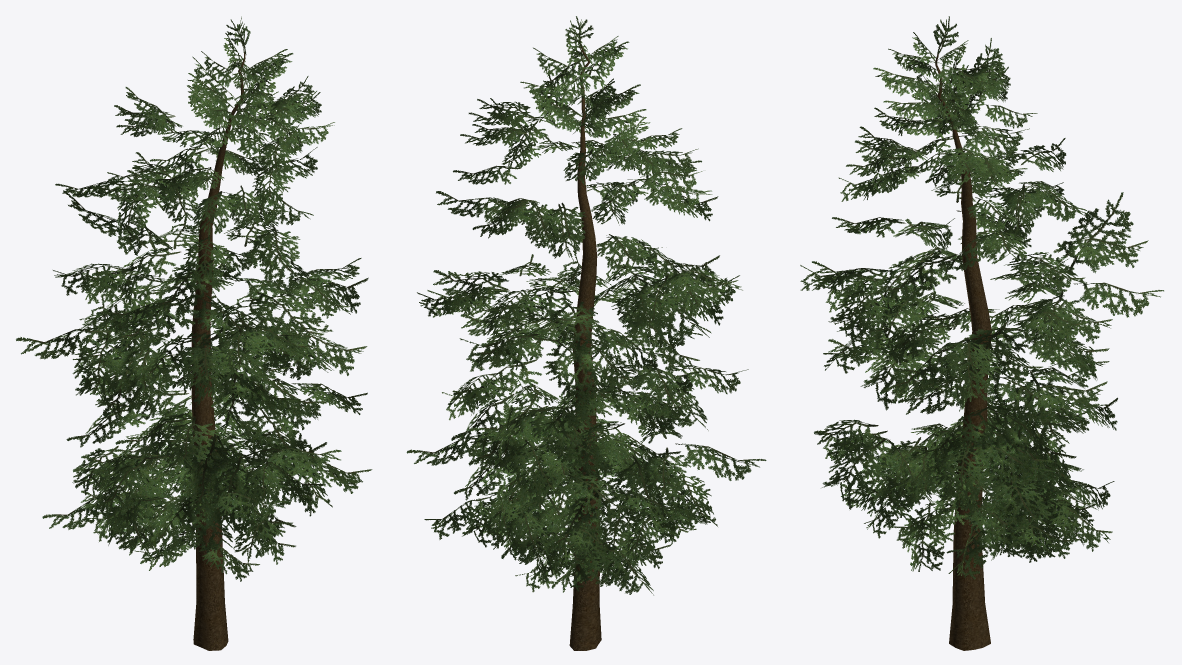
File: baum_fichte_2_lod1.glb
3 renders of one model, left to right at view 1: azimuth 30°, elevation 25°; view 2: azimuth 150°, elevation 25°; view 3: azimuth 270°, elevation 25°, orthographic. The views are drawn at different scales.
Visible parts, largest first — view 1: Krone, Stamm; view 2: Krone, Stamm; view 3: Krone, Stamm.
Boxes of the visible parts, box(x1,y1,x2,y2) form: Krone: box(16, 16, 372, 581); Stamm: box(191, 51, 245, 650); Krone: box(406, 16, 766, 595); Stamm: box(569, 46, 601, 650); Krone: box(800, 16, 1163, 579); Stamm: box(935, 53, 991, 650).
Size of the model in its own units: 9.13 by 17.05 by 8.99.
Materials: 2 (2 with a texture image).
